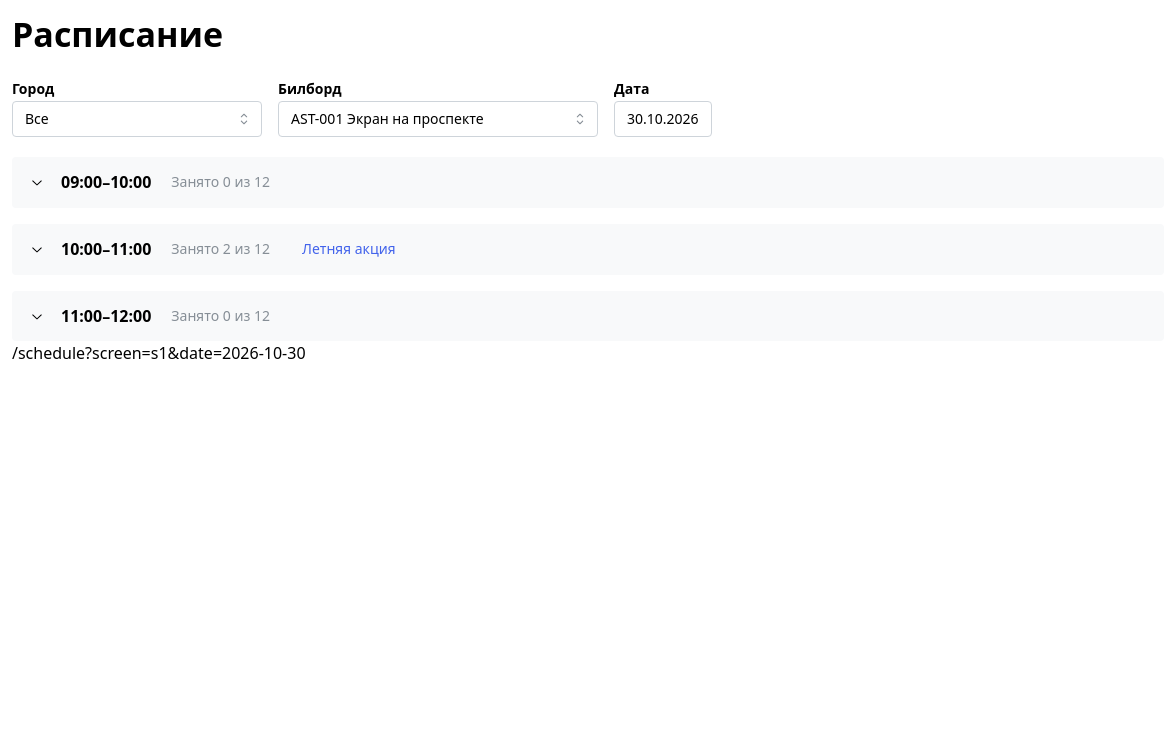
[f07-schedule] opening an hour shows 12 slots
What coordinates should you click on to do the following:
click the button "10:00–11:00 Занято 2 из 12"
I would click on:
 (150, 249)
Its box is [13,225,286,274].
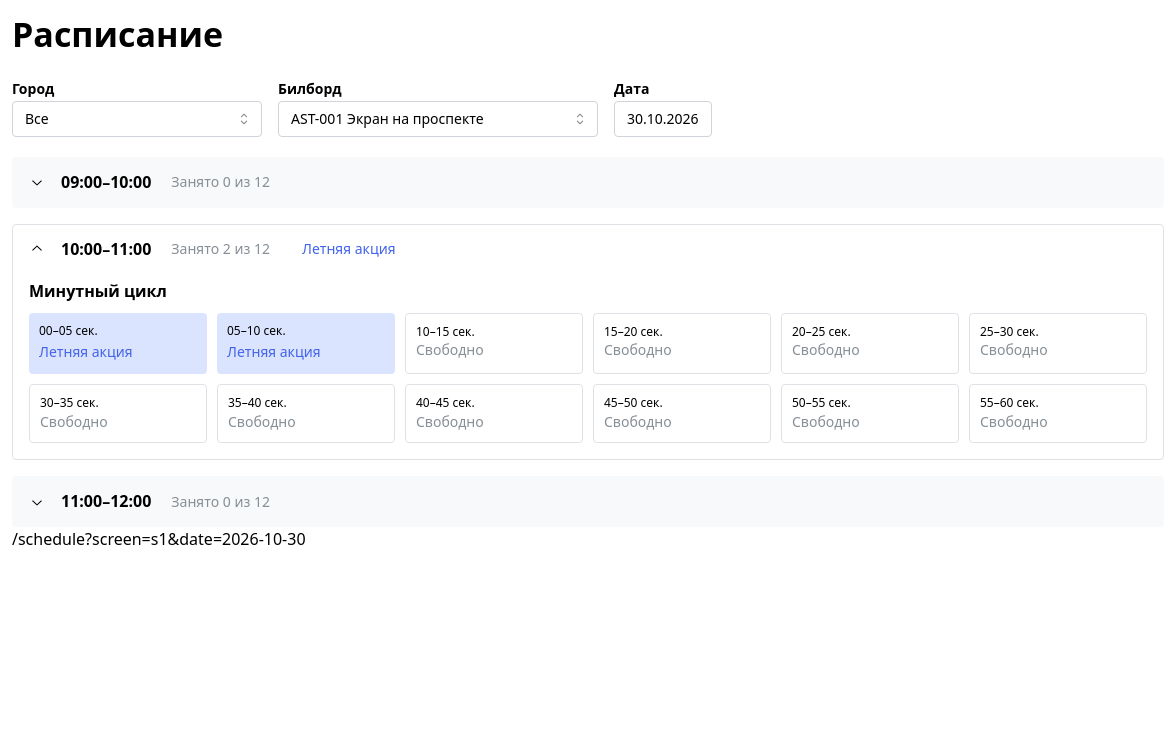
Expected: the element showing "00–05 сек. Летняя акция" is shown, [29,313,207,374]
Expected: the element showing "55–60 сек. Свободно" is shown, [969,384,1147,443]
